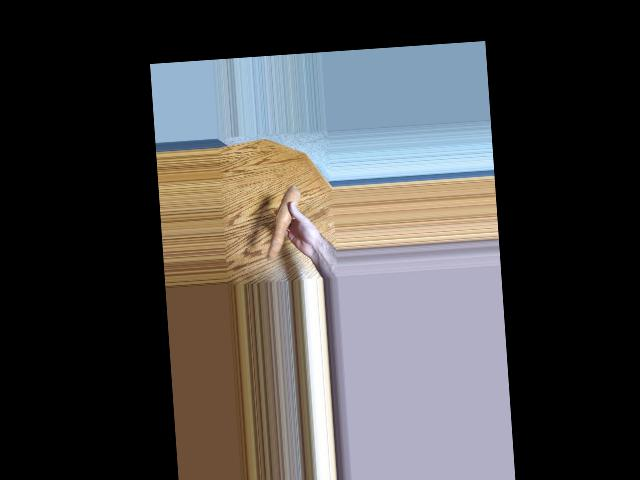sweet_potato: (267, 183, 296, 260)
